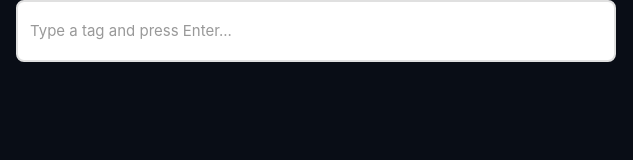
Test case: TagInput Component › Validation - Empty Tags › should clear error when user starts typing
Press Enter in the field named "tag input", box [26,10,606,52]
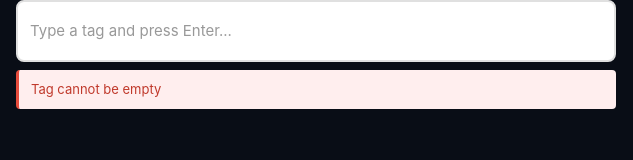
Now the text "Tag cannot be empty" is shown, box [16,70,616,109]
# Start typing
Type "R" into the field named "tag input" at (316, 31), box [26,10,606,52]
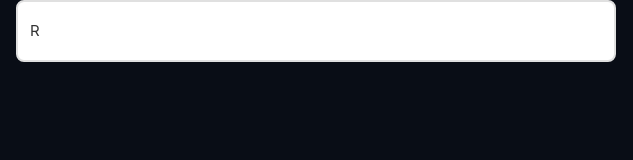
Now the text "Tag cannot be empty" is gone
